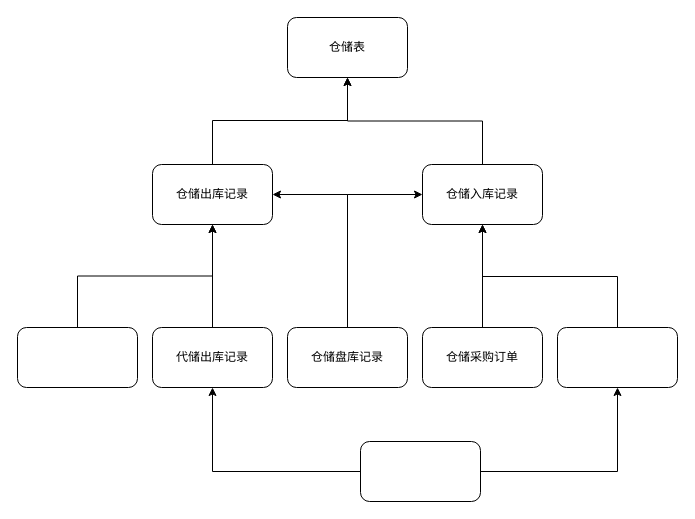
The diagram is 695 pixels wide and 519 high, and some of its shapes have lost their labels. The centre of each missing label's shape, as x and y in pixels:
"仓储销售订单" belongs at point 77,357.
"代储入库记录" belongs at point 617,357.
"代储结算订单" belongs at point 420,471.
